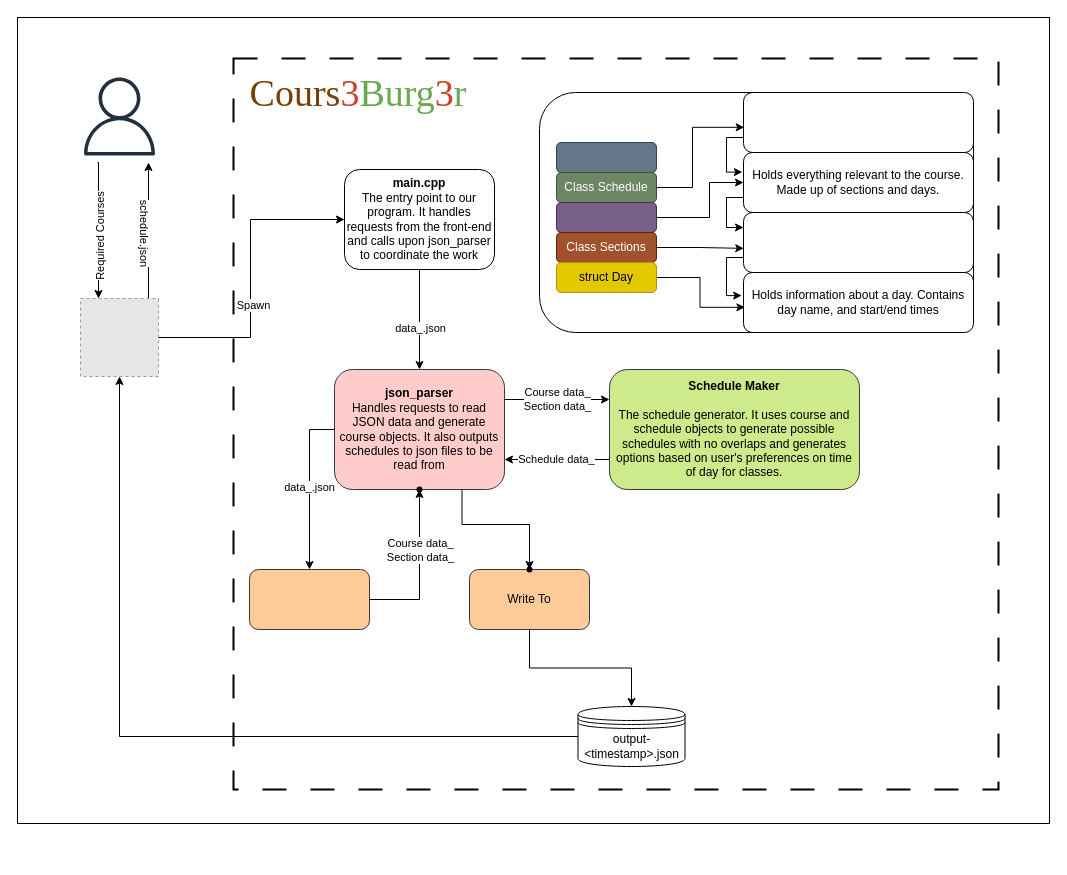
Image size: 1067x875. Some labels were removed from this diagram. Grey dashed boxes stand in for pictures. Each missing label, with the centre of its shape:
"Class Course" belongs at (x=606, y=217).
"Data Objects" belongs at (x=606, y=157).
"Hold info about generated schedules. Made up of courses, sections, and days." belongs at (x=858, y=122).
"Holds the information of a section. Sections are made up of days and times" belongs at (x=858, y=242).
"Read From" belongs at (x=309, y=599).
